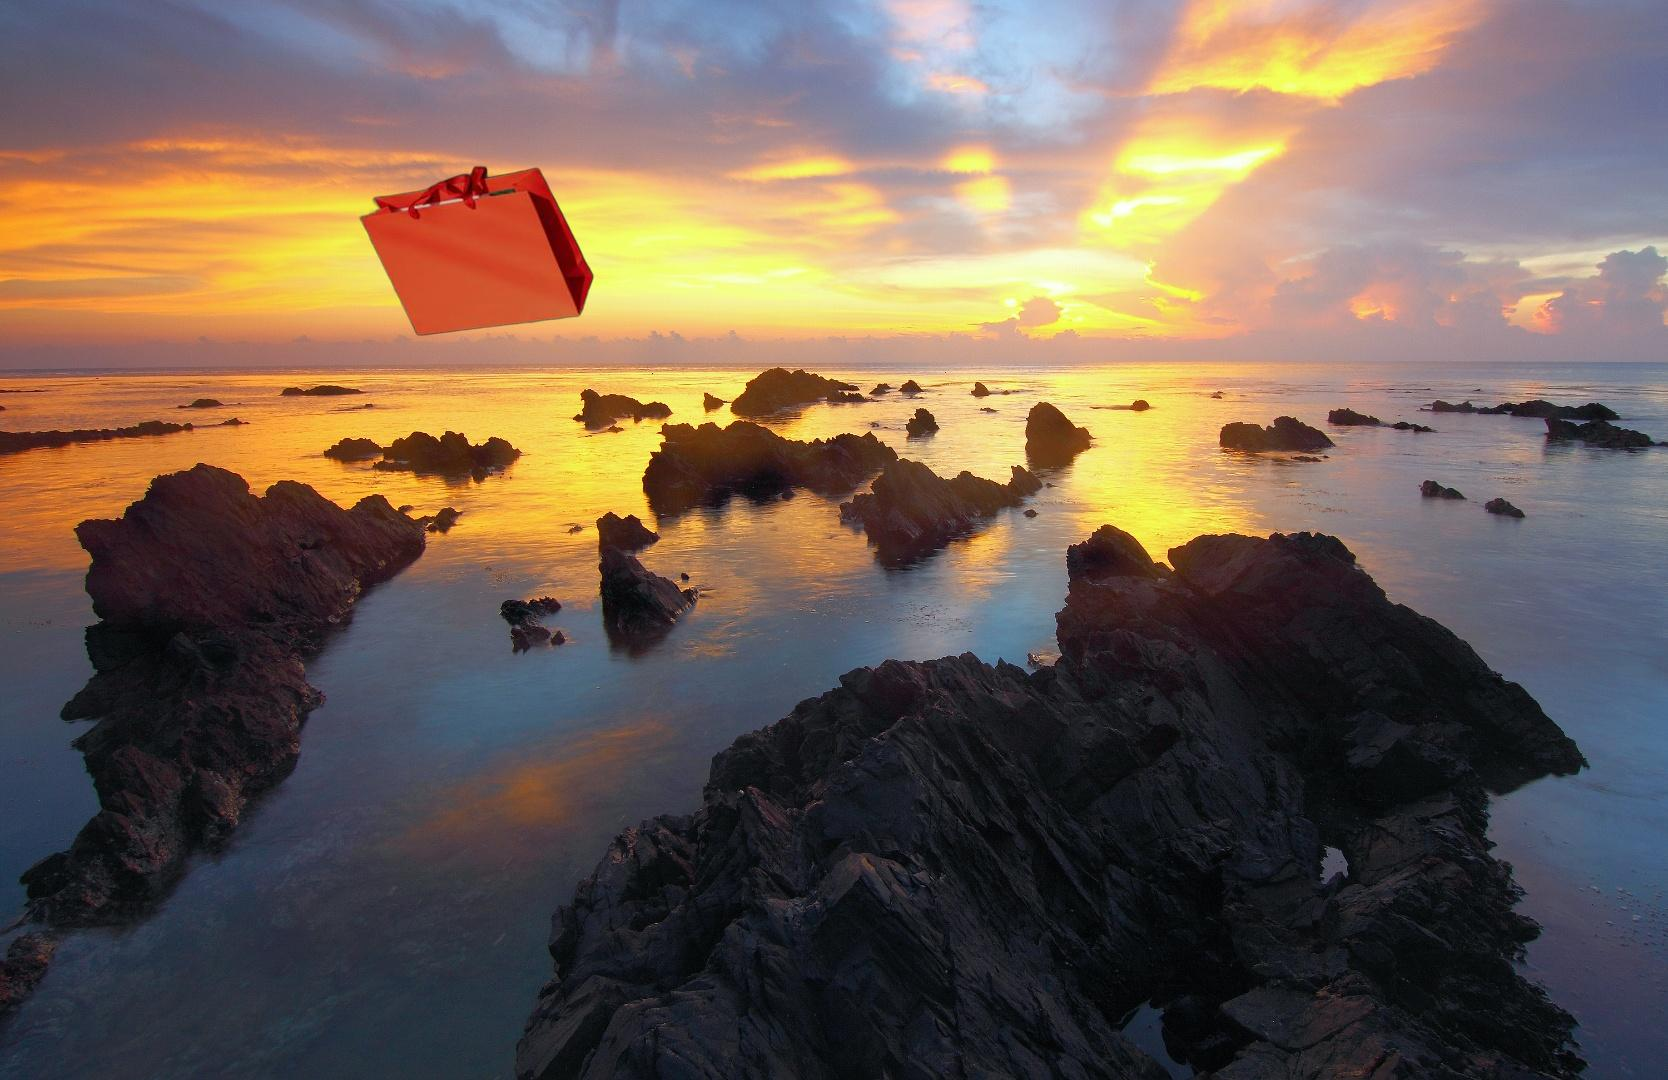paper-bag: (356, 164, 596, 338)
